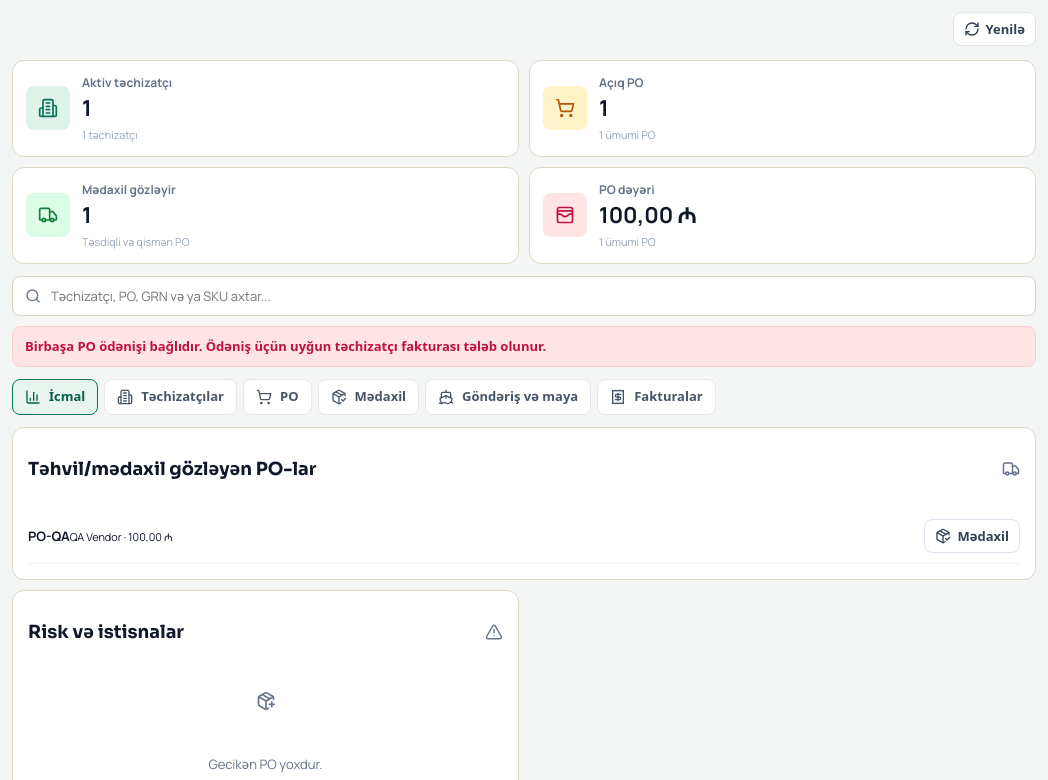
Test case: resets tenant forms and rejects an old A response after A -> B -> A
Earlier steps of the test are not shown.
Click the button "Təchizatçılar".
click(171, 397)  # box 104,379 -> 237,415
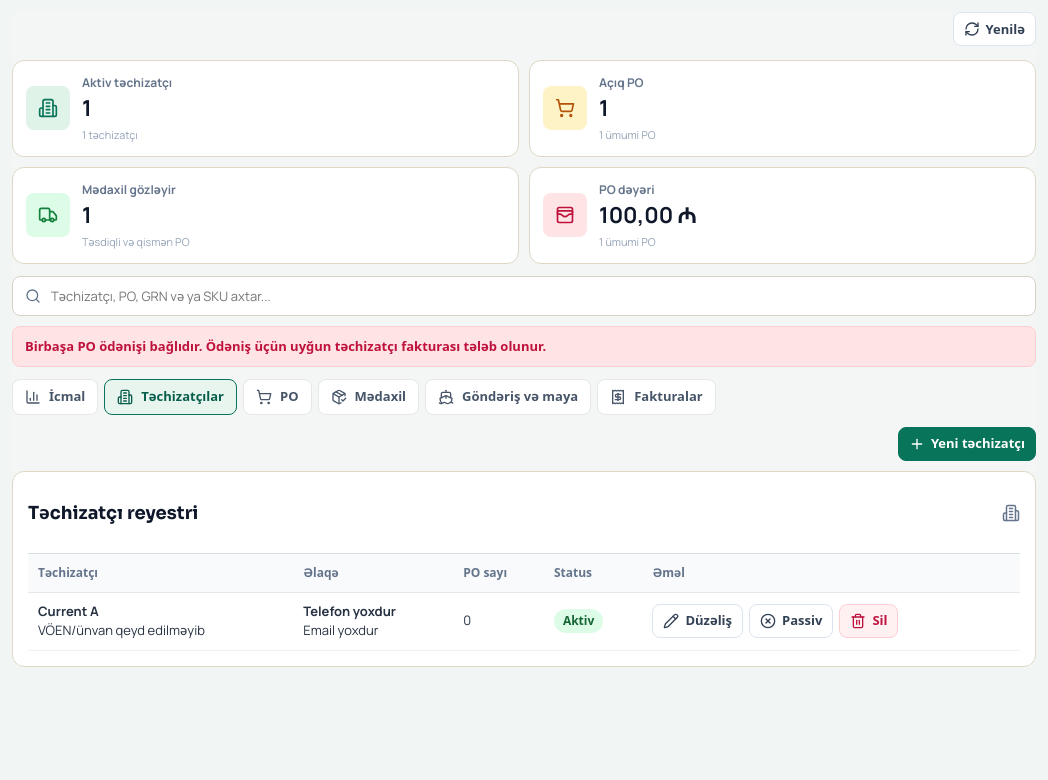
Expected: the text "Current A" is shown, 38,602 -> 99,620
